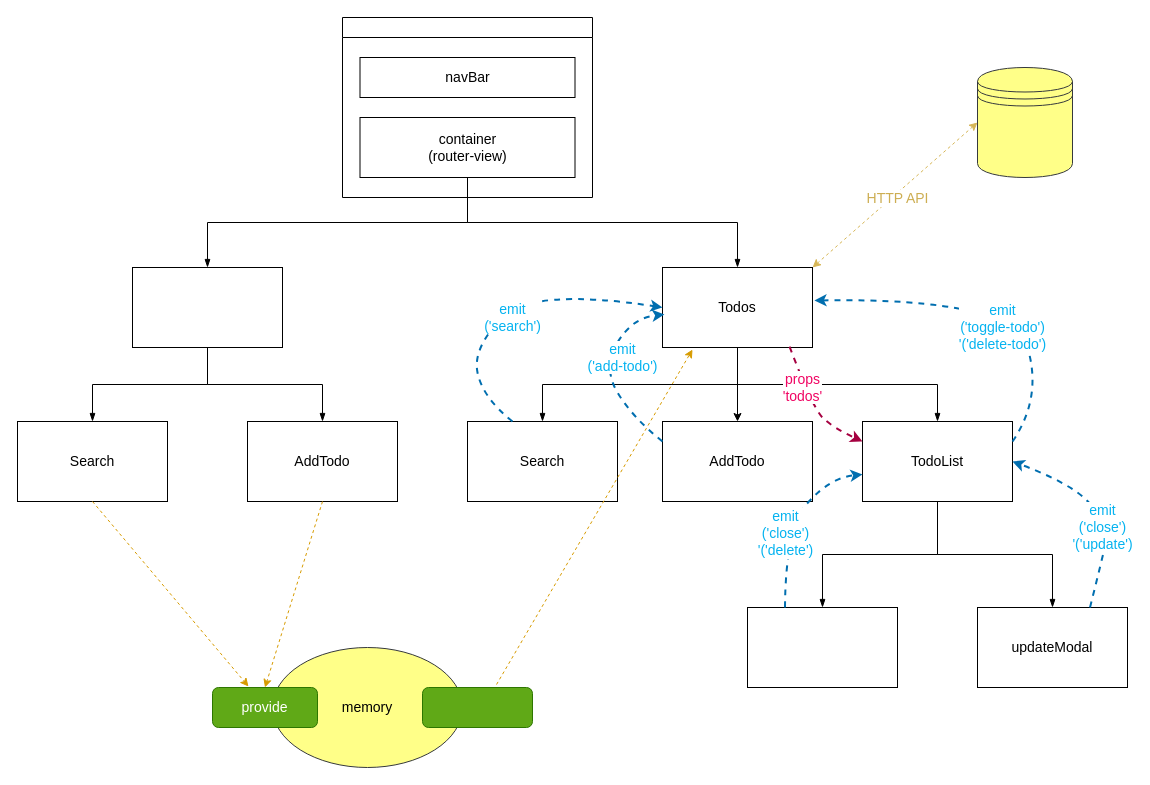
Some shapes in this 1150 by 785 pixel diagram are drawn without their labels. The shapes that lost their labels are listed below. From the top down, each one's box as (x1, y1, x2, y2) in pixels, then its label:
(342, 16, 592, 198): App.vue
(976, 66, 1072, 178): db.json
(132, 266, 282, 348): Home
(746, 606, 898, 688): deleteModal
(422, 686, 532, 728): Inject
